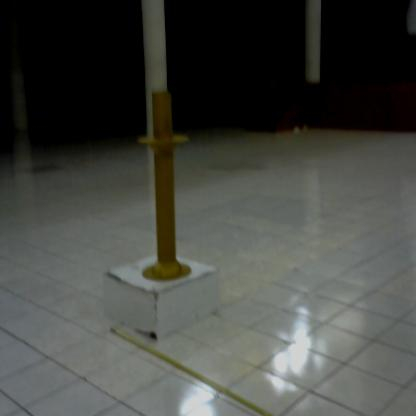pole: (135, 85, 202, 290)
